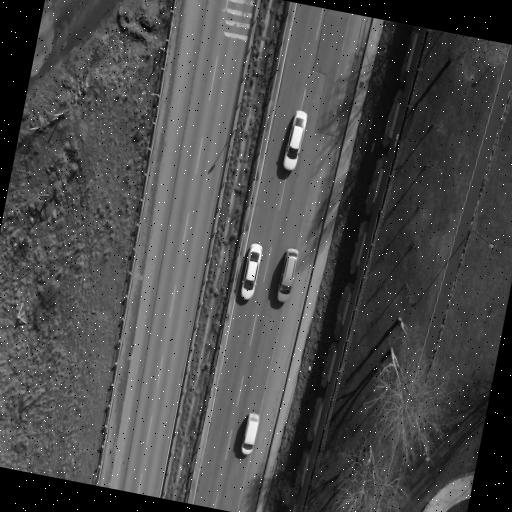person: (284, 110, 307, 169), (241, 243, 262, 299), (278, 248, 298, 301), (241, 412, 260, 454)
